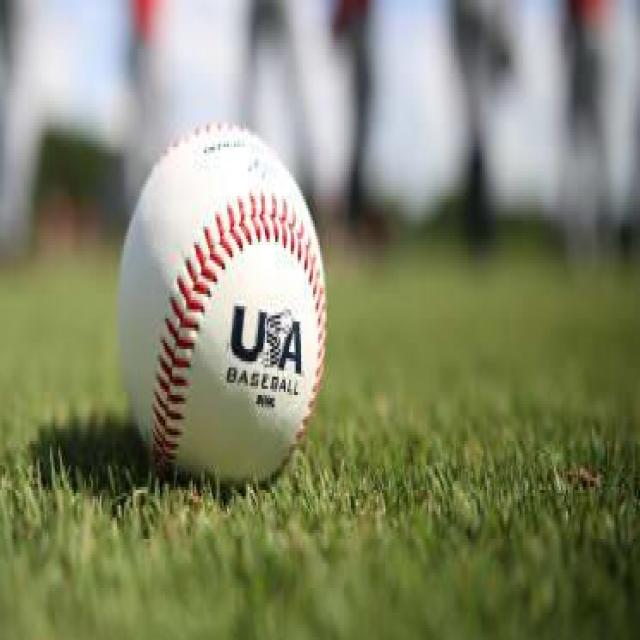baseball: (116, 122, 330, 490)
